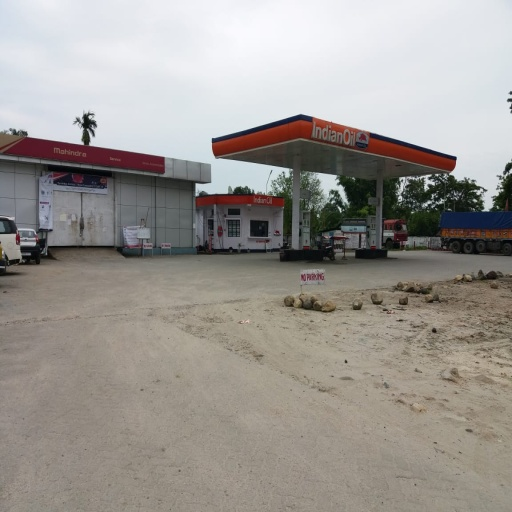roof: (211, 116, 456, 180)
